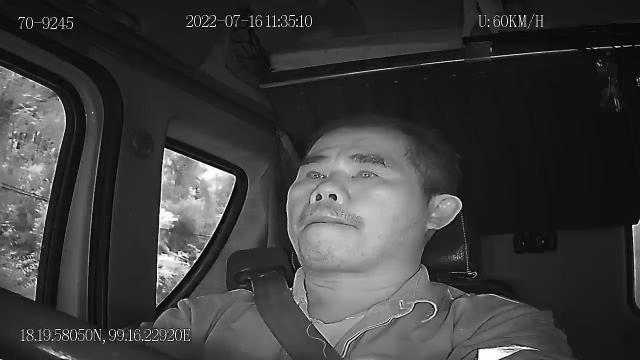SafeDriving: (343, 157, 388, 185)
Seatbelt: (254, 276, 344, 360)
